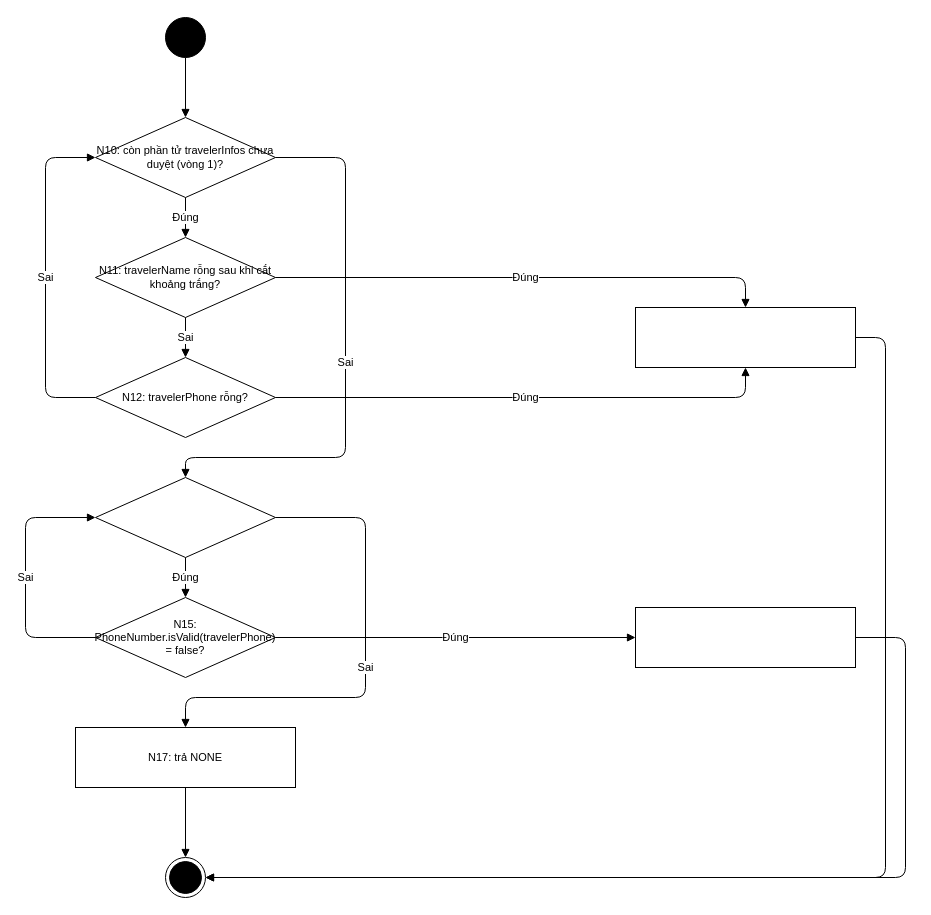
Some shapes in this 931 by 915 pixel diagram are drawn without their labels. The centre of each missing label's shape, as x and y in pixels:
"N13: trả MISSING_INFO" goes at pixel 745 337.
"N14: còn phần tử chưa duyệt (vòng 2)?" goes at pixel 185 517.
"N16: trả INVALID_PHONE" goes at pixel 745 637.
